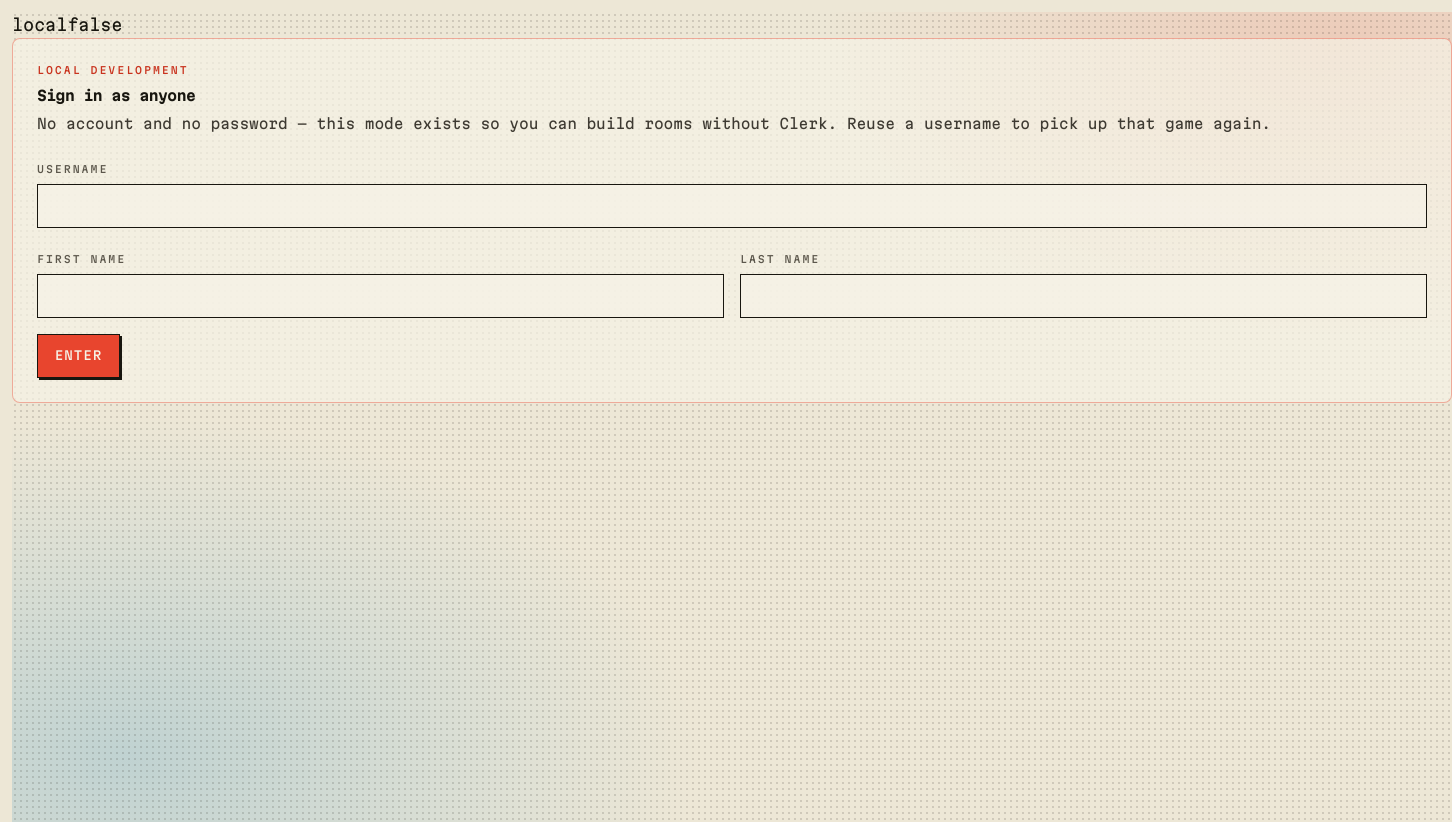
Test case: local development auth › signs in with just a username and a name — no password, no network
The image size is (1452, 822).
Type "ada" into the field labelled "Username". click: {"x": 732, "y": 206}
box: [37,184,1427,228]
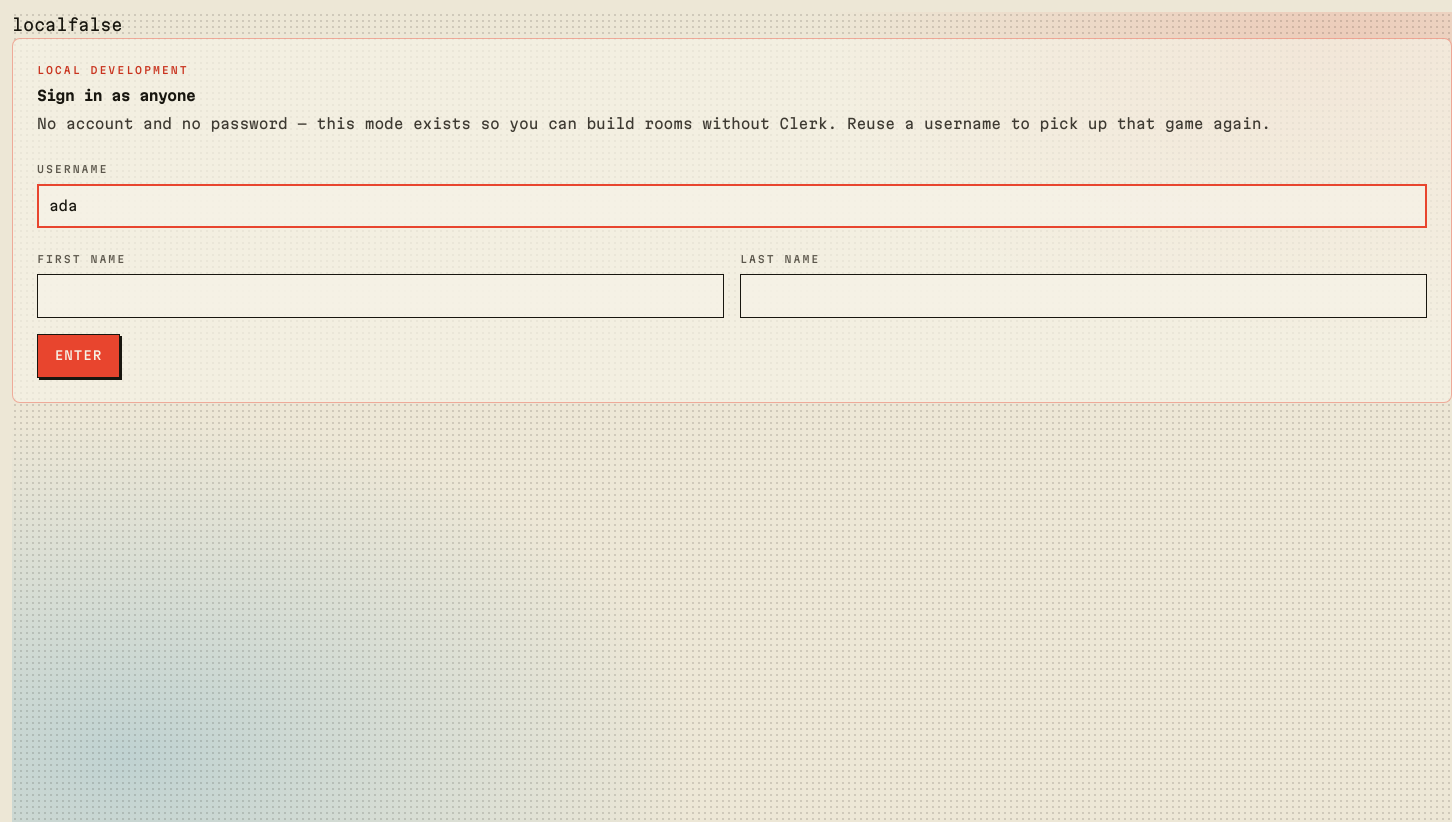
Type "Ada" into the field labelled "First name". click: {"x": 380, "y": 296}
box: [37,274,724,318]
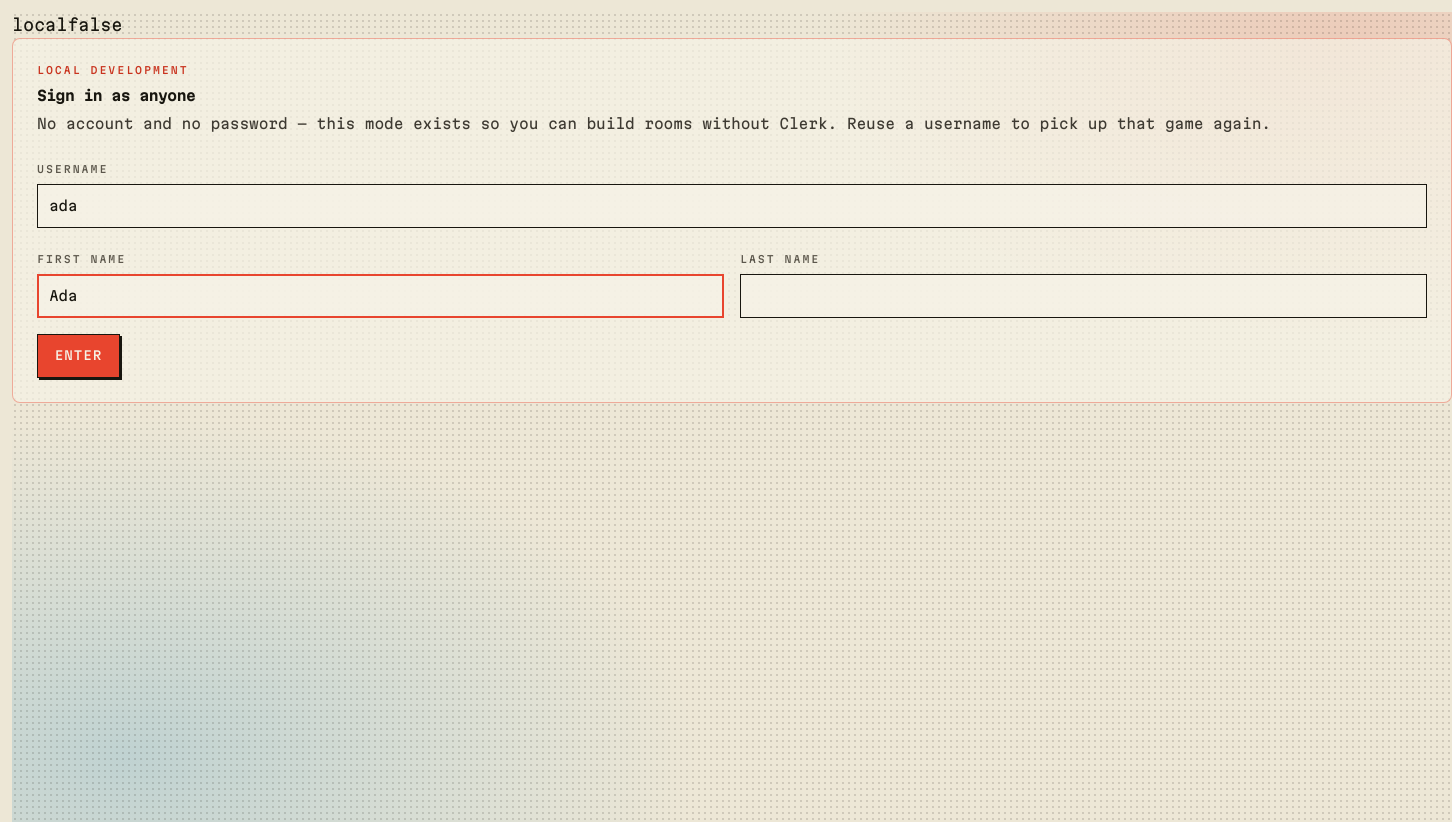
Type "Lovelace" into the field labelled "Last name". click: {"x": 1084, "y": 296}
box: [740,274,1427,318]
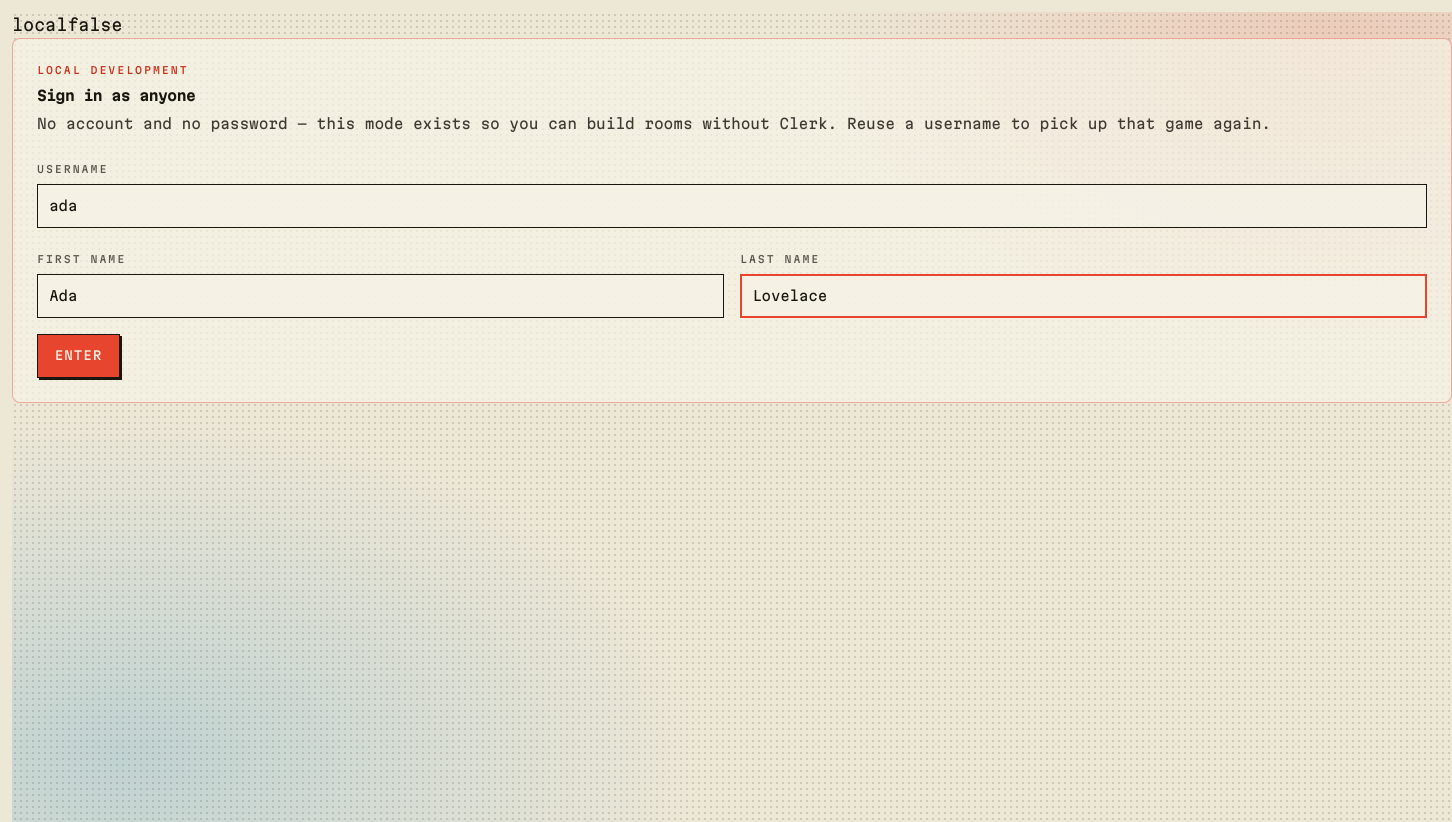
Click the button "Enter". click: {"x": 78, "y": 356}
box: [37,334,120,378]
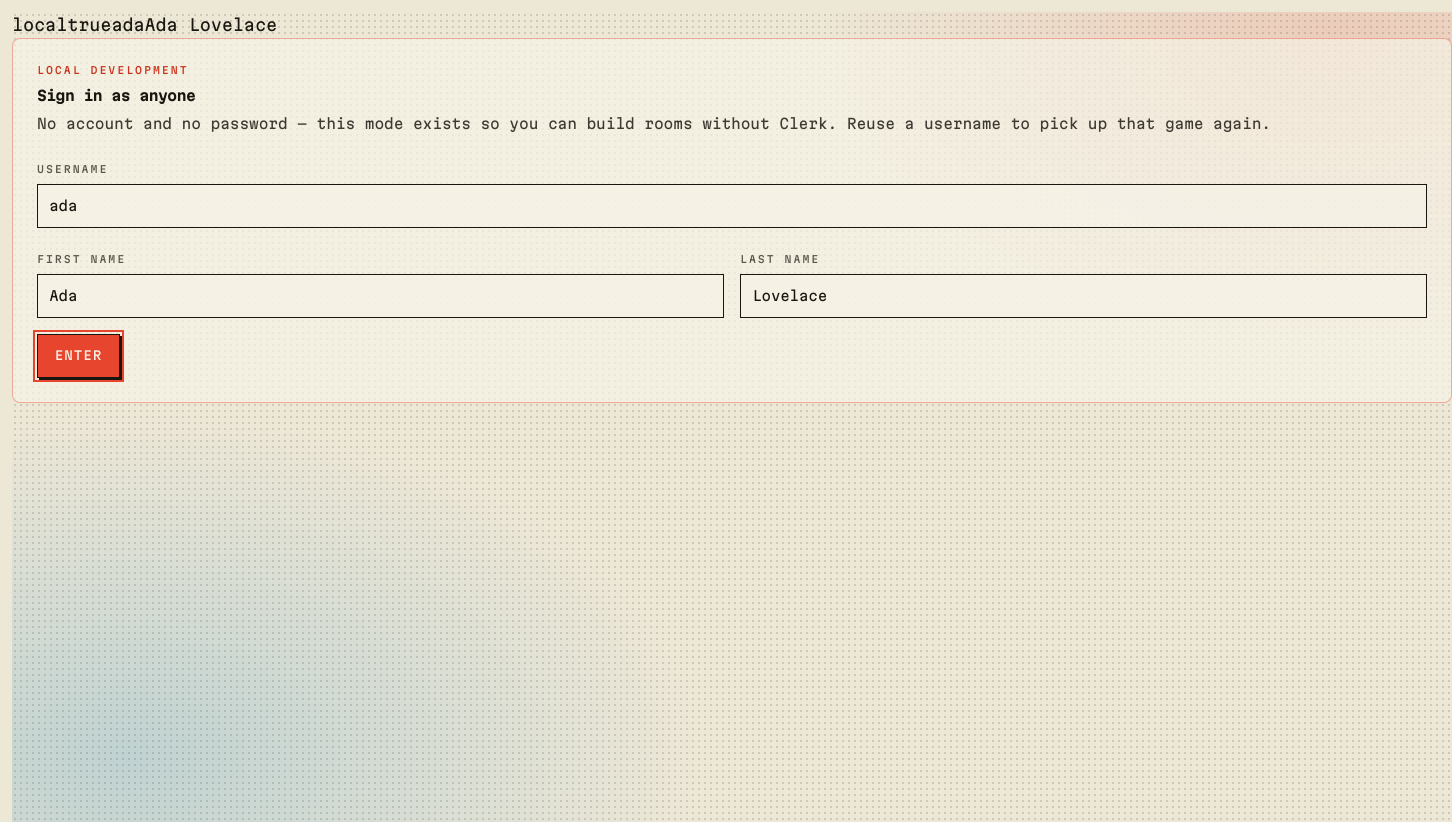
Expected: the text with test id "signed-in" reads "true", [67,15,111,34]
Expected: the text with test id "username" reads "ada", [111,15,144,34]
Expected: the text with test id "name" reads "Ada Lovelace", [144,15,277,34]
